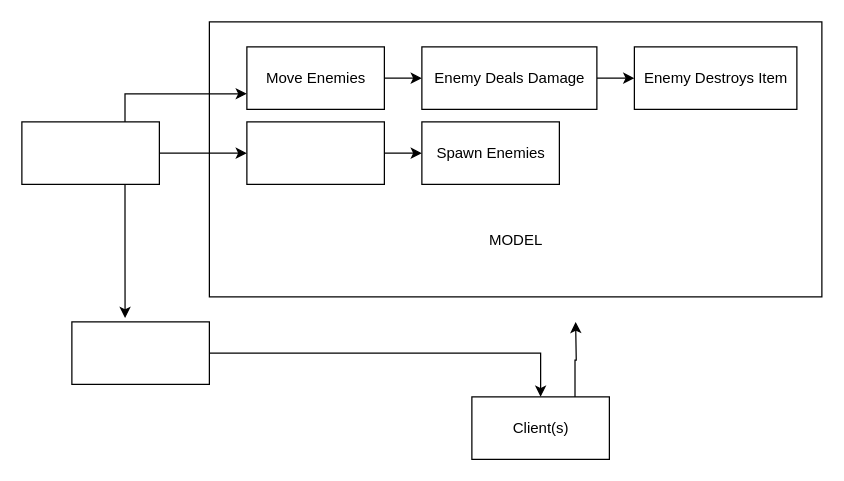
The diagram is 844 pixels wide and 481 high, and some of its shapes have lost their labels. The shapes that lost their labels are listed below. From the top down, each one's centre as x and y in pixels, then its label:
the point at 90,152: Timer
the point at 315,152: Toggle Day/Night
the point at 140,352: Send Model (or Send Chunk)
